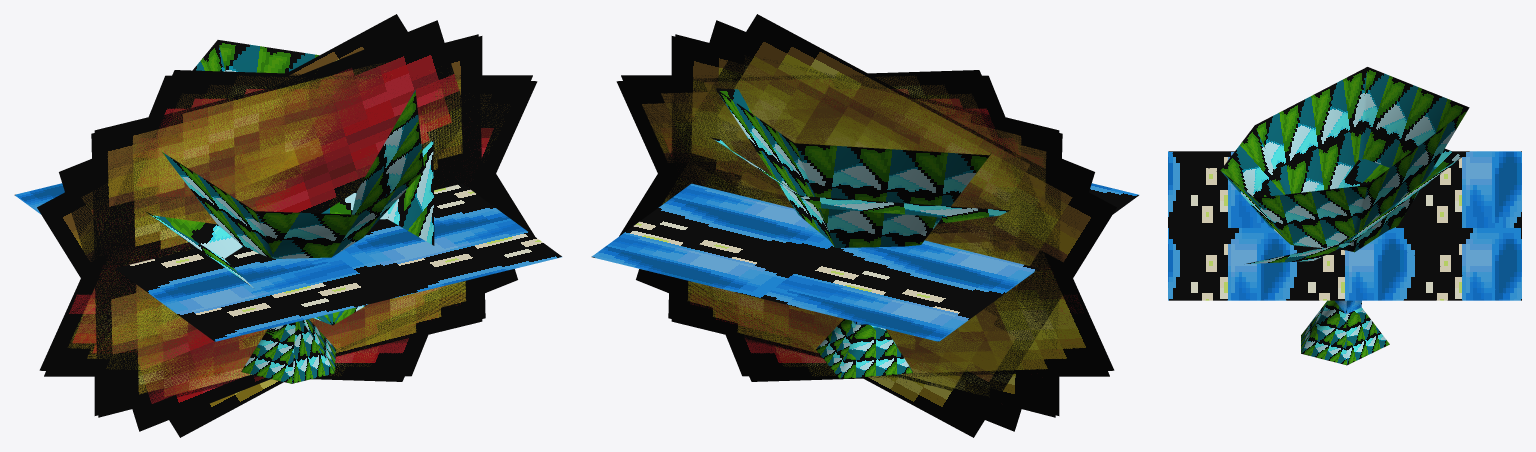
Rendered from 5493ucc_taba01.gltf.
3 views of the same model, side by side, from view 1: azimuth 30°, elevation 25°; view 2: azimuth 150°, elevation 25°; view 3: azimuth 270°, elevation 25° (orthographic). The views are drawn at different scales.
Parts seen in each view (by area): view 1: 5493ucc_taba01; view 2: 5493ucc_taba01; view 3: 5493ucc_taba01.
Part boxes in pixels (x1=…): 5493ucc_taba01: x1=14, y1=14, x2=562, y2=437; 5493ucc_taba01: x1=591, y1=14, x2=1139, y2=437; 5493ucc_taba01: x1=1168, y1=67, x2=1521, y2=365.
Bounding box in the file's own units: 1.45 × 1.02 × 1.
Materials: 4 (4 with a texture image).
